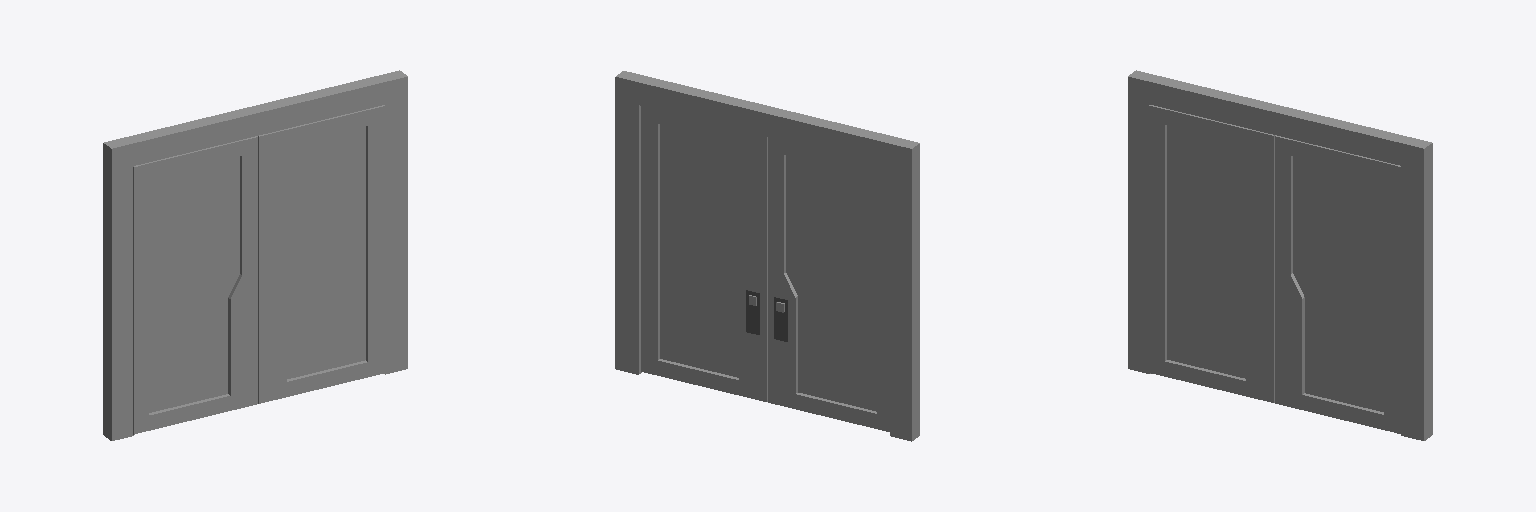
File: Door-Double.obj
The picture shows the model from 3 angles: view 1: azimuth 30°, elevation 25°; view 2: azimuth 150°, elevation 25°; view 3: azimuth 330°, elevation 25°; orthographic projection.
Visible parts, largest first — view 1: Cube.114_Cube.121, Cube.141_Cube.159, Cube.117_Cube.124, Cube.116_Cube.123, Cube.135_Cube.153, Cube.134_Cube.152, Cube.136_Cube.154; view 2: Cube.114_Cube.121, Cube.141_Cube.159, Cube.117_Cube.124, Cube.116_Cube.123, Cube.135_Cube.153, Cube.134_Cube.152, Cube.136_Cube.154; view 3: Cube.114_Cube.121, Cube.117_Cube.124, Cube.141_Cube.159, Cube.135_Cube.153, Cube.116_Cube.123, Cube.134_Cube.152, Cube.136_Cube.154.
Boxes of the visible parts, x1,y1,x2,y2 form: Cube.114_Cube.121: [103, 70, 407, 440]; Cube.141_Cube.159: [275, 126, 365, 378]; Cube.117_Cube.124: [149, 157, 239, 412]; Cube.116_Cube.123: [258, 106, 380, 403]; Cube.135_Cube.153: [134, 136, 257, 432]; Cube.134_Cube.152: [380, 105, 385, 373]; Cube.136_Cube.154: [133, 166, 137, 434]; Cube.114_Cube.121: [615, 71, 919, 441]; Cube.141_Cube.159: [660, 124, 750, 377]; Cube.117_Cube.124: [786, 155, 876, 411]; Cube.116_Cube.123: [645, 107, 767, 401]; Cube.135_Cube.153: [768, 137, 887, 431]; Cube.134_Cube.152: [641, 106, 644, 372]; Cube.136_Cube.154: [888, 166, 889, 431]; Cube.114_Cube.121: [1128, 70, 1432, 440]; Cube.117_Cube.124: [1167, 125, 1257, 378]; Cube.141_Cube.159: [1293, 156, 1383, 411]; Cube.135_Cube.153: [1149, 105, 1274, 402]; Cube.116_Cube.123: [1275, 135, 1399, 432]; Cube.134_Cube.152: [1396, 166, 1400, 433]; Cube.136_Cube.154: [1149, 106, 1152, 373].
Bounding box in the file's own units: 4.75 × 4.47 × 0.2421.